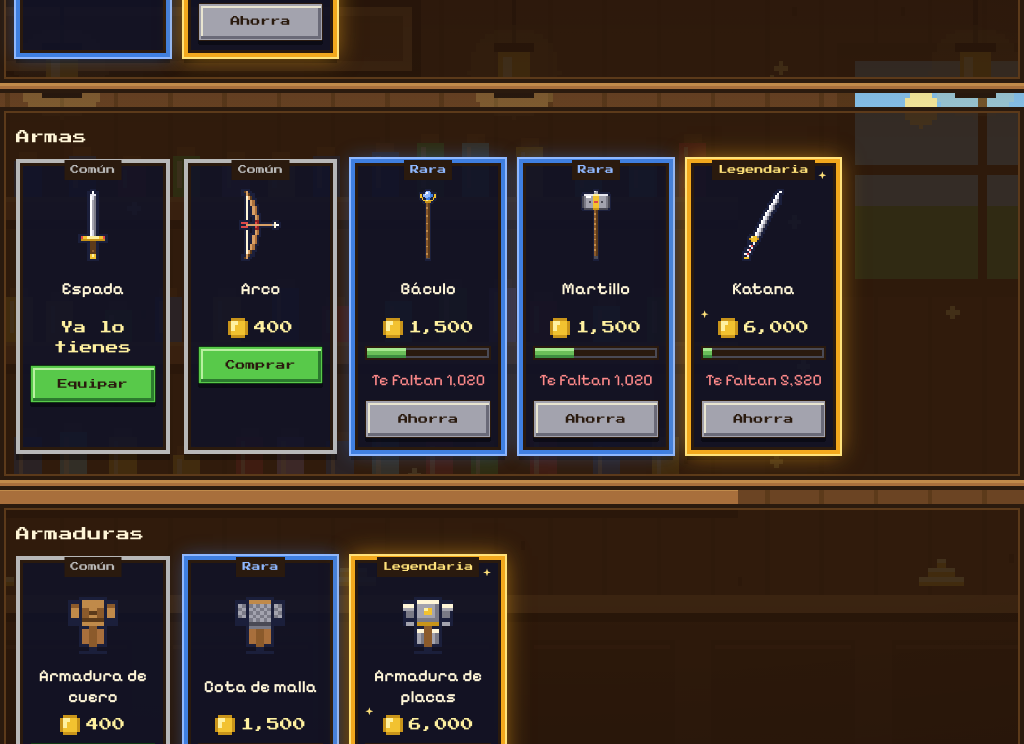
Test: Tienda v0.3 › secciones por clase y equipa/quita lo que ya tienes
This screenshot has width=1024, height=744.
Later steps or results of the test are not shown.
(page scrolled)
Expected: the element "Armas" is shown, [0,107,1023,480]
Click the button with aria-label "Equipar Espada" at (93,384), box [30,365,156,403]
(page scrolled)
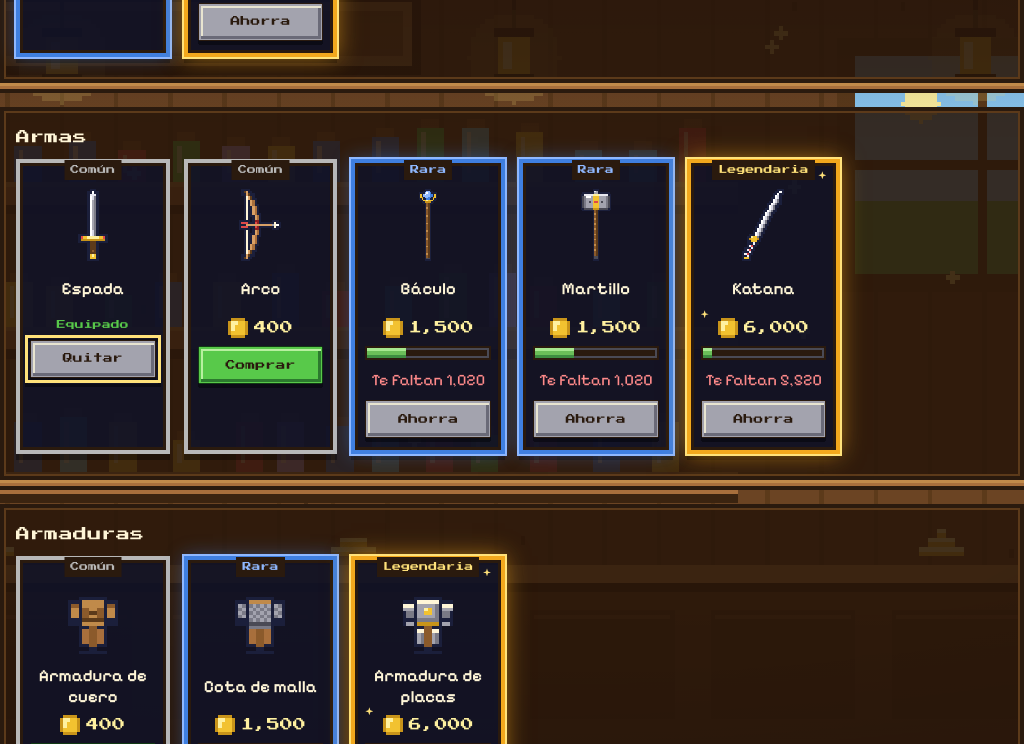
Expected: the text "Equipado" is shown, [57,318,129,332]
